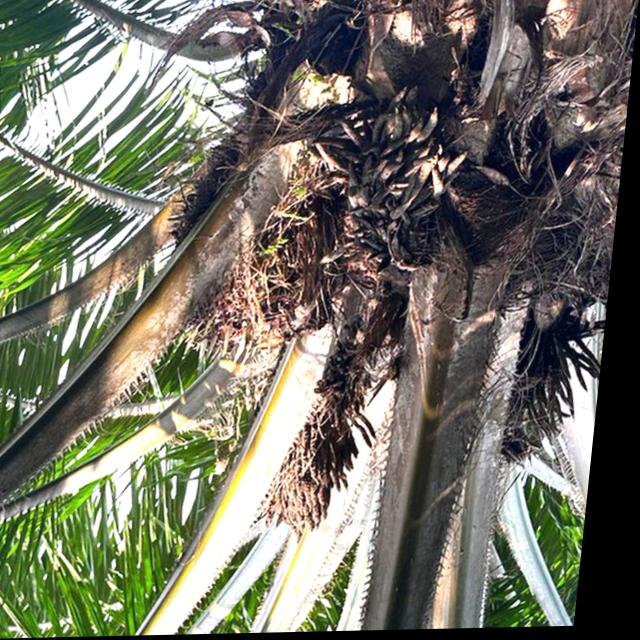ripe: (181, 189, 361, 380)
